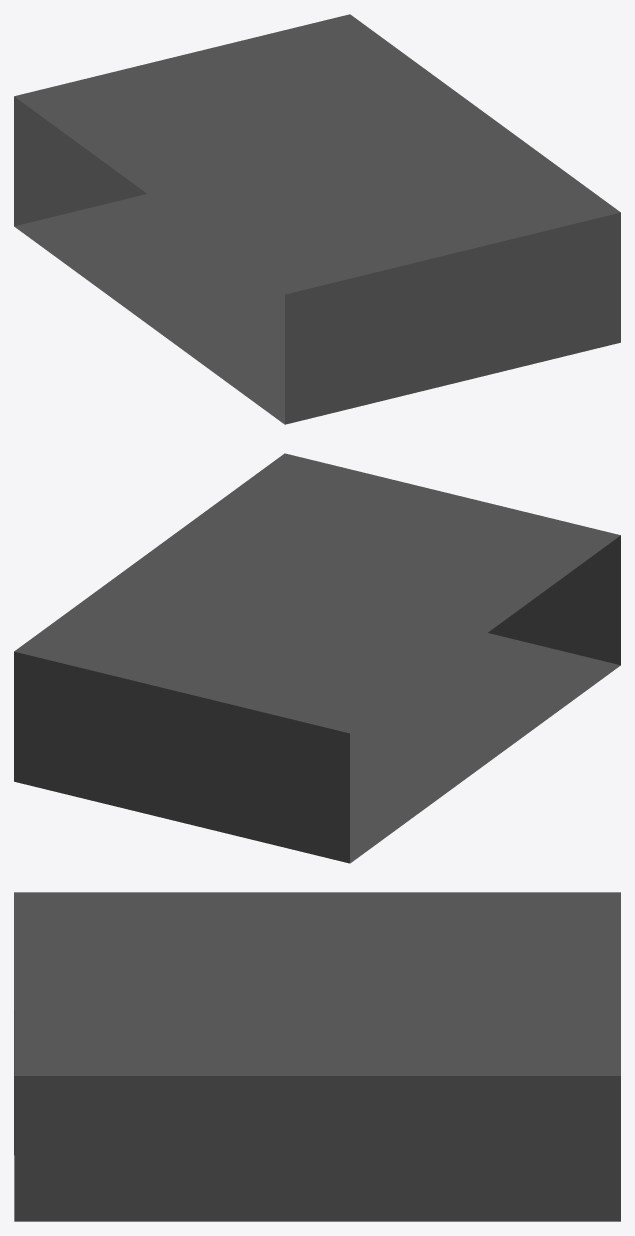
Rendered from Itr_Diningtable_Base_Right_04.FBX.
3 renders of one model, top to bottom at view 1: azimuth 30°, elevation 25°; view 2: azimuth 150°, elevation 25°; view 3: azimuth 270°, elevation 25°, orthographic. The views are drawn at different scales.
Parts seen in each view (by area): view 1: Itr_Diningtable_Base_Right_04; view 2: Itr_Diningtable_Base_Right_04; view 3: Itr_Diningtable_Base_Right_04.
Part boxes in pixels (x1,y1,x2,y2): Itr_Diningtable_Base_Right_04: (14,14,620,424); Itr_Diningtable_Base_Right_04: (14,453,620,863); Itr_Diningtable_Base_Right_04: (14,892,620,1221).
Bounding box in the file's own units: 24.71 × 9.14 × 34.5.
